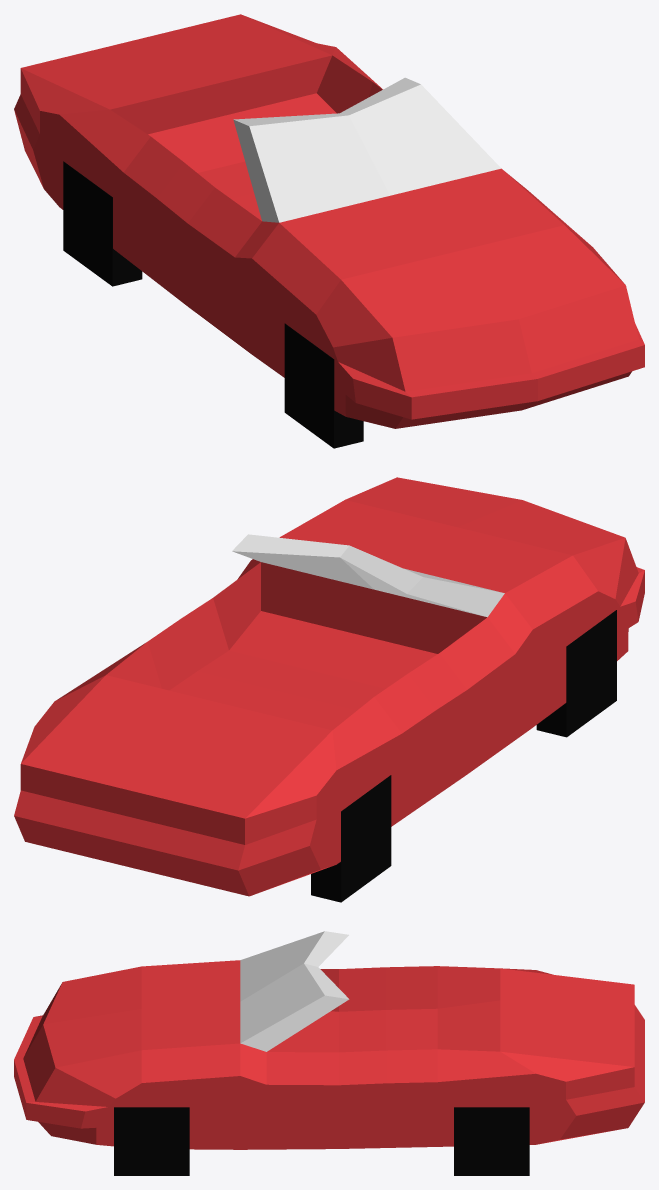
Rendered from Sports.fbx.
The picture shows the model from 3 angles, top to bottom: view 1: azimuth 30°, elevation 25°; view 2: azimuth 150°, elevation 25°; view 3: azimuth 270°, elevation 25°; orthographic projection. The views are drawn at different scales.
Visible parts, largest first — view 1: Sports; view 2: Sports; view 3: Sports.
Part boxes in pixels (x1,y1,x2,y2): Sports: (14, 14, 644, 448); Sports: (14, 477, 644, 902); Sports: (14, 931, 644, 1175).
Size of the model in its own units: 2.39 by 1.72 by 6.12.
